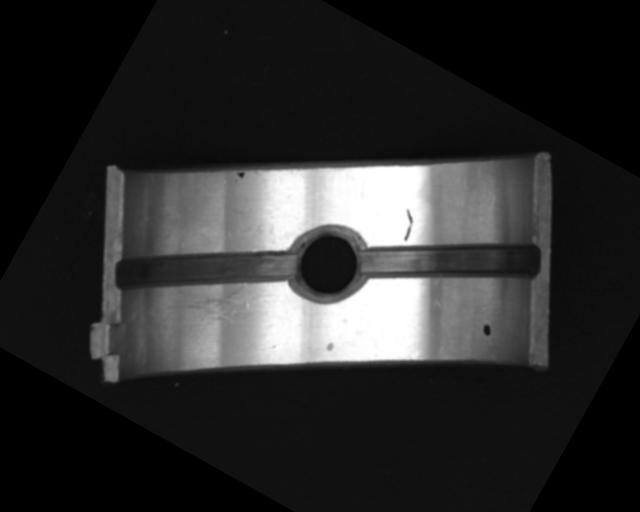blot: (479, 321, 496, 338), (234, 168, 247, 180)
bruise: (324, 338, 337, 353)
gap: (110, 182, 303, 358), (357, 178, 540, 345)
hole: (277, 211, 379, 313)
nick: (392, 208, 421, 243)
scratch: (164, 254, 258, 344)
